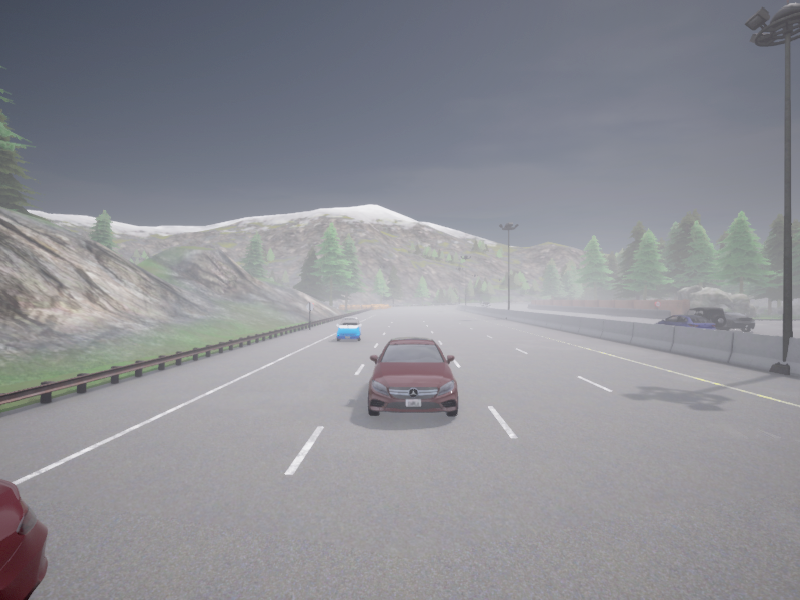vehicle: (368, 337, 457, 415), (0, 479, 47, 599), (684, 307, 728, 330), (654, 315, 716, 329), (336, 317, 361, 341), (724, 311, 754, 331), (478, 302, 490, 307)
